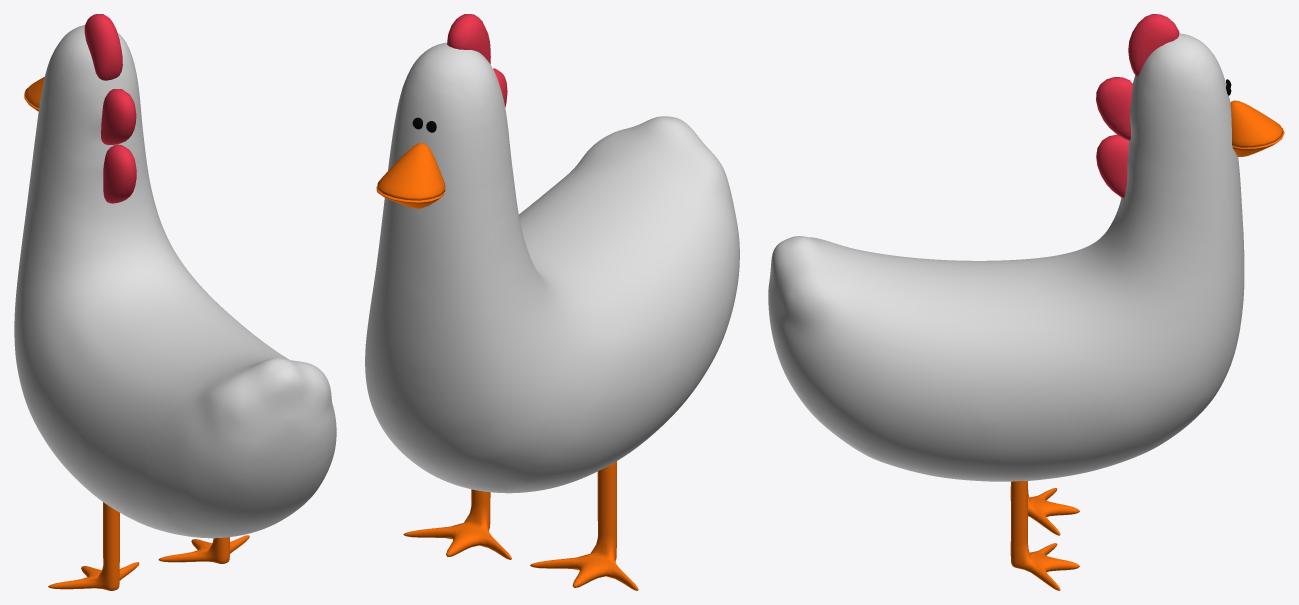
The model's file is duck.fbx.
3 renders of one model, left to right at view 1: azimuth 30°, elevation 25°; view 2: azimuth 150°, elevation 25°; view 3: azimuth 270°, elevation 25°, orthographic. The views are drawn at different scales.
Parts seen in each view (by area): view 1: Cube.003, Cube.004, Cube.006, Cube.005; view 2: Cube.003, Cube.006, Cube.001, Cube.005, Cube.004; view 3: Cube.003, Cube.004, Cube.005, Cube.001, Cube.006.
Boxes of the visible parts, <box> form: Cube.003: <box>14,25,336,538</box>; Cube.004: <box>84,14,136,203</box>; Cube.006: <box>48,502,139,590</box>; Cube.005: <box>158,535,249,563</box>; Cube.003: <box>365,42,739,493</box>; Cube.006: <box>530,461,638,590</box>; Cube.001: <box>377,143,445,200</box>; Cube.005: <box>403,489,511,559</box>; Cube.004: <box>447,14,507,107</box>; Cube.003: <box>768,33,1244,481</box>; Cube.004: <box>1096,14,1179,198</box>; Cube.005: <box>1010,481,1079,590</box>; Cube.001: <box>1230,100,1283,147</box>; Cube.006: <box>1010,486,1079,535</box>.
Size of the model in its own units: 193 by 466 by 414.
